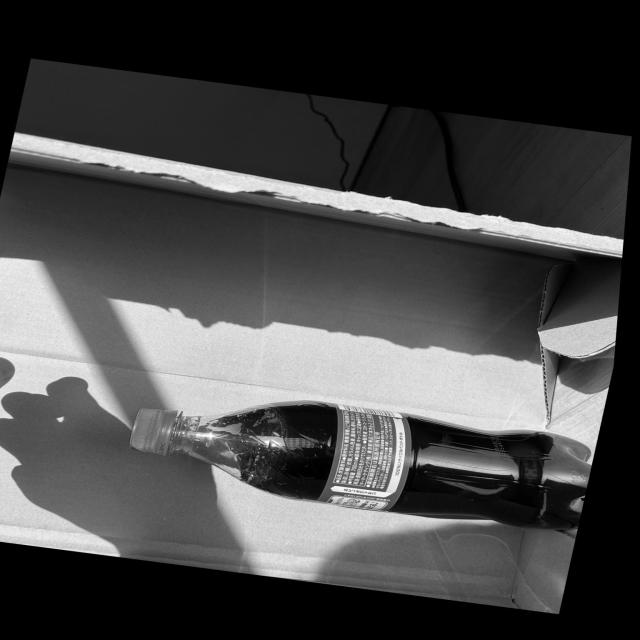high: (131, 402, 590, 530)
